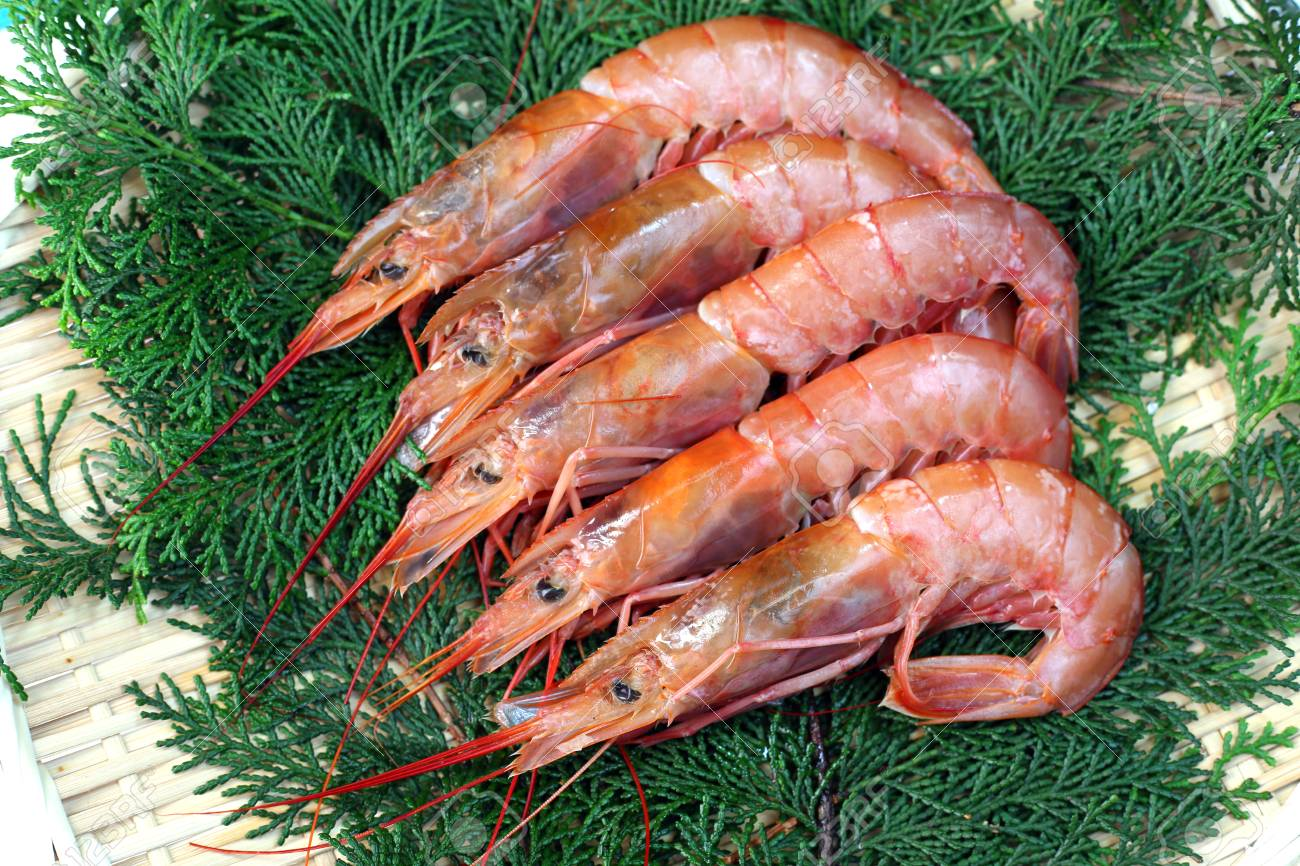Red Prawn: (339, 1, 993, 330), (571, 463, 1155, 754)
